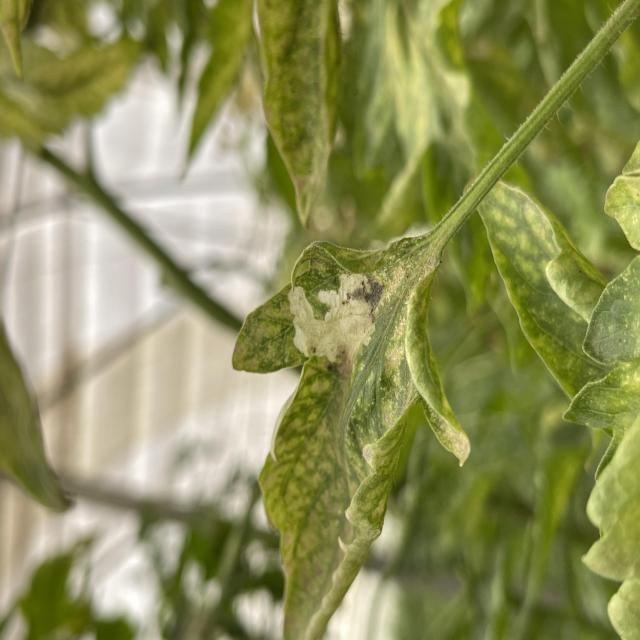Tuta absoluta: (279, 264, 382, 368)
